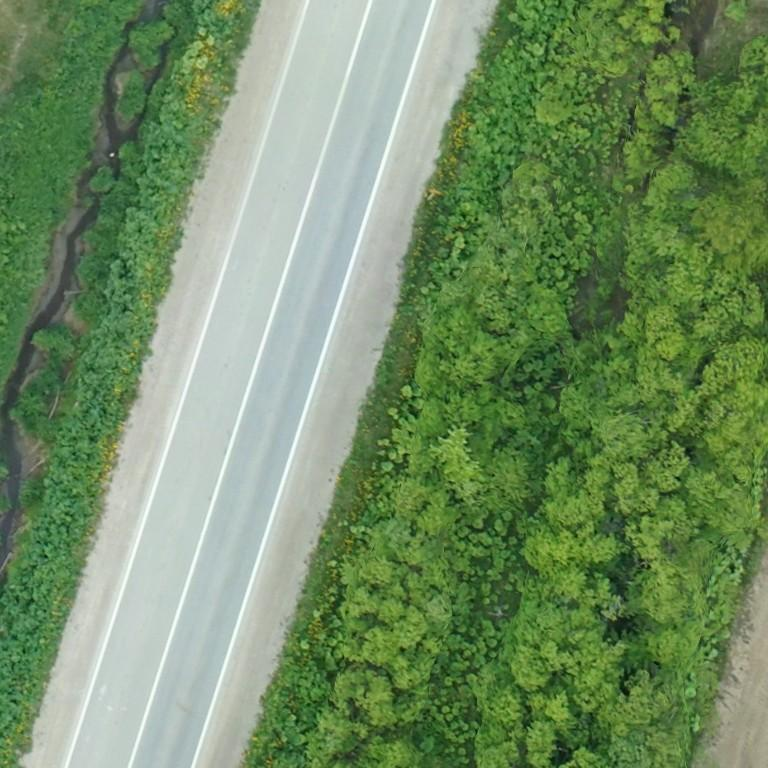hogweed: (0, 122, 191, 749), (192, 0, 234, 36)
